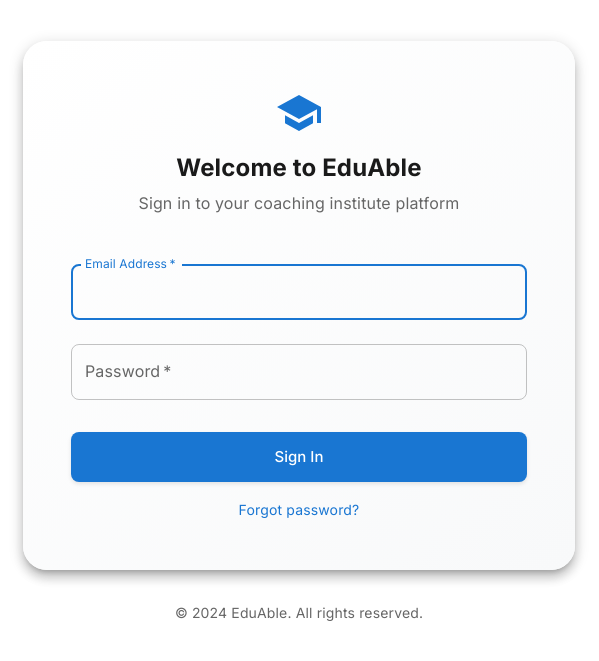
Test: Login Component › should show validation errors for empty fields
The width and height of the screenshot is (599, 661).
Click the button "Sign In": x=299, y=457 [71,432,527,482]
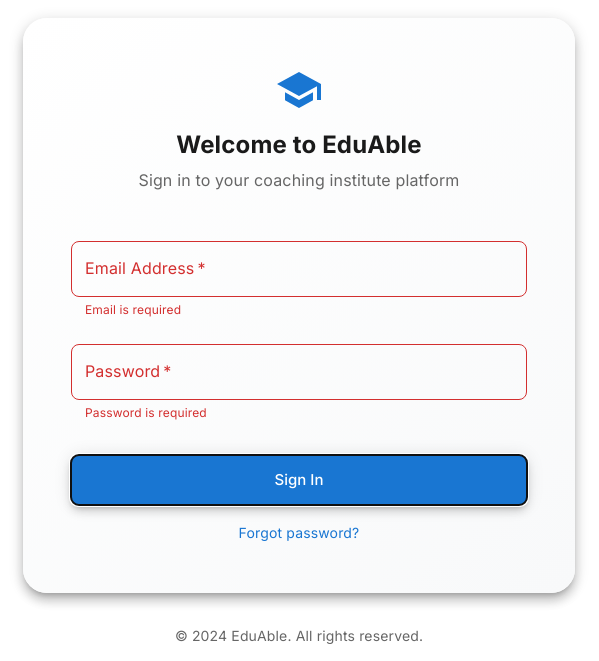
Check: the text "Email is required" is shown, box [85,302,181,317]
Check: the text "Password is required" is shown, box [85,405,207,420]
